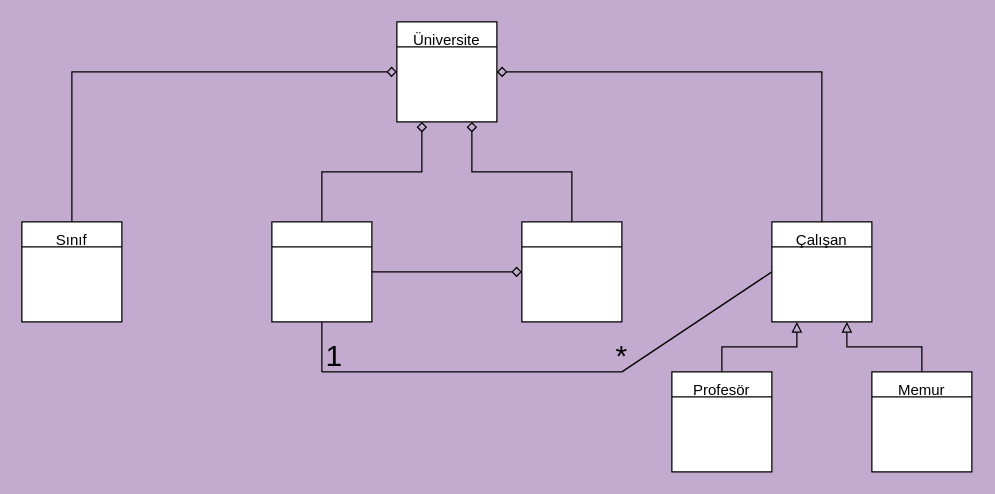
The diagram is 995 pixels wide and 494 high, and some of its shapes have lost their labels. The shapes that lost their labels are listed below. From the top down, each one's centre as x and y in pixels, then its label:
At pixel 321 271: "Ofis".
At pixel 571 271: "Departman".
